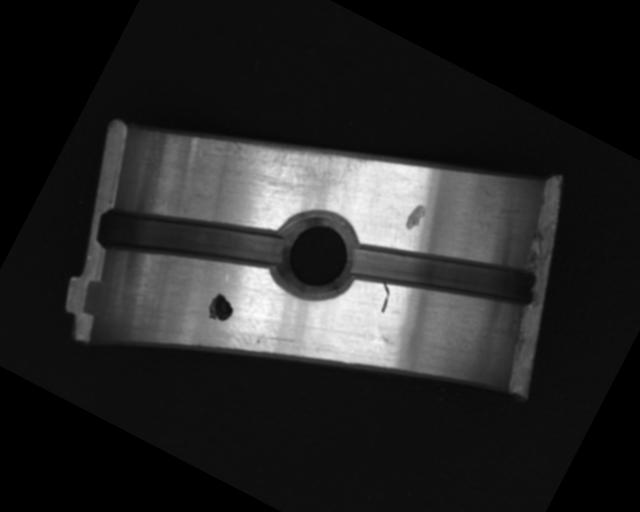blot: (202, 289, 239, 328)
bruise: (400, 199, 430, 235)
gap: (91, 161, 292, 321), (345, 195, 543, 352)
hole: (258, 195, 377, 313)
nick: (370, 281, 397, 314)
scratch: (209, 89, 377, 223)
